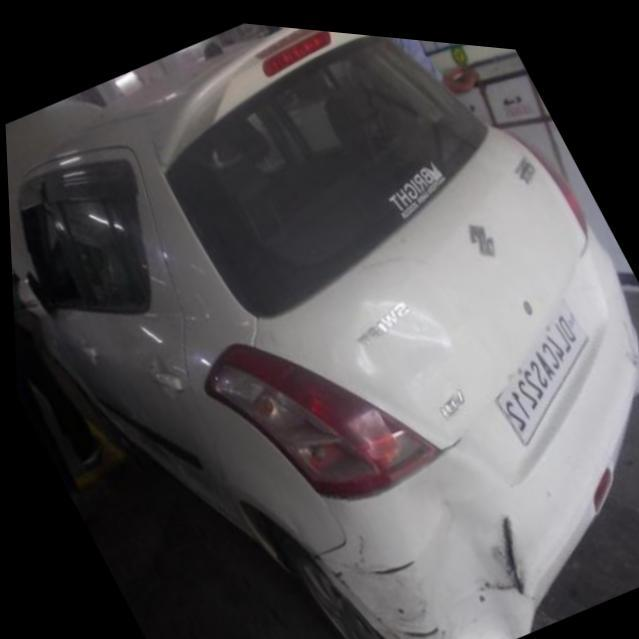crack: (320, 551, 407, 639), (494, 498, 521, 595), (323, 548, 413, 576), (389, 617, 435, 639)
dent: (408, 491, 528, 639), (334, 289, 448, 398)
